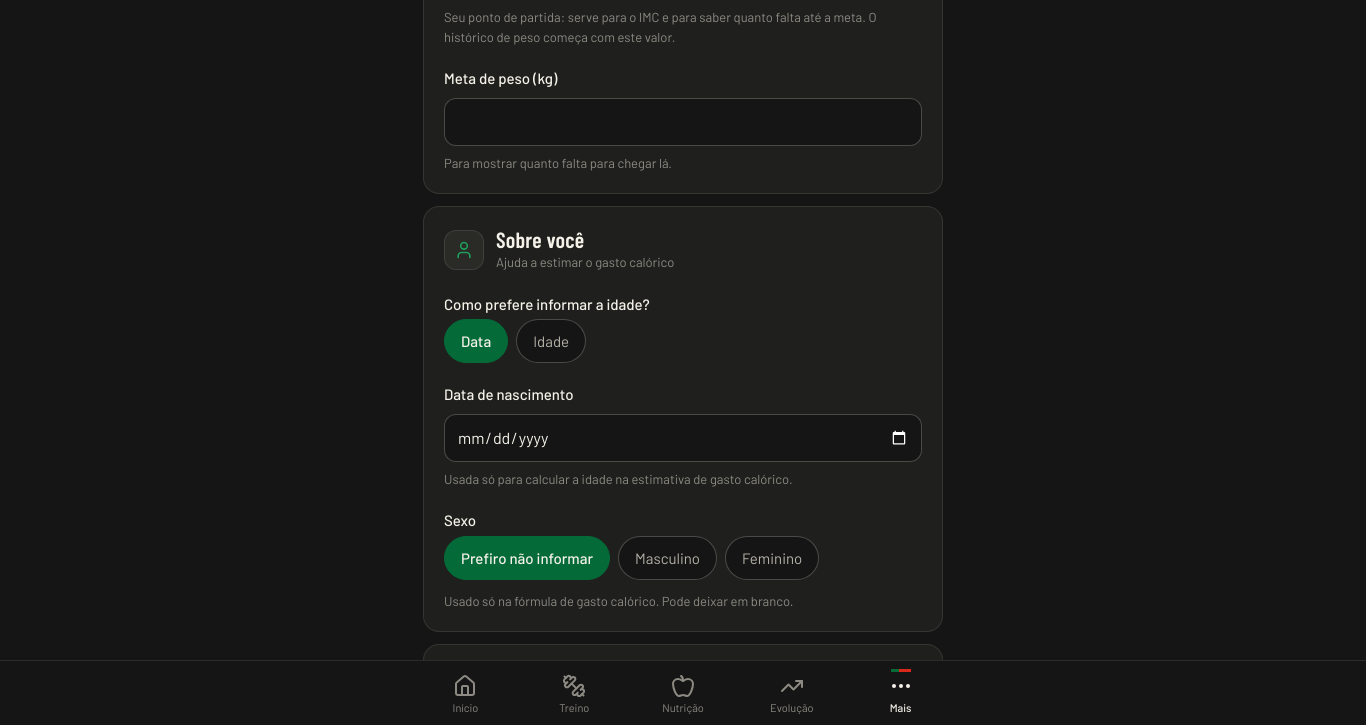
Test: Configurações › permite informar só a idade aproximada
(page scrolled)
Check: the date field labelled "Data de nascimento" is shown, box [444,414,922,462]
Click the radio button labelled "Idade" at {"x": 551, "y": 342}, box [516,320,586,364]
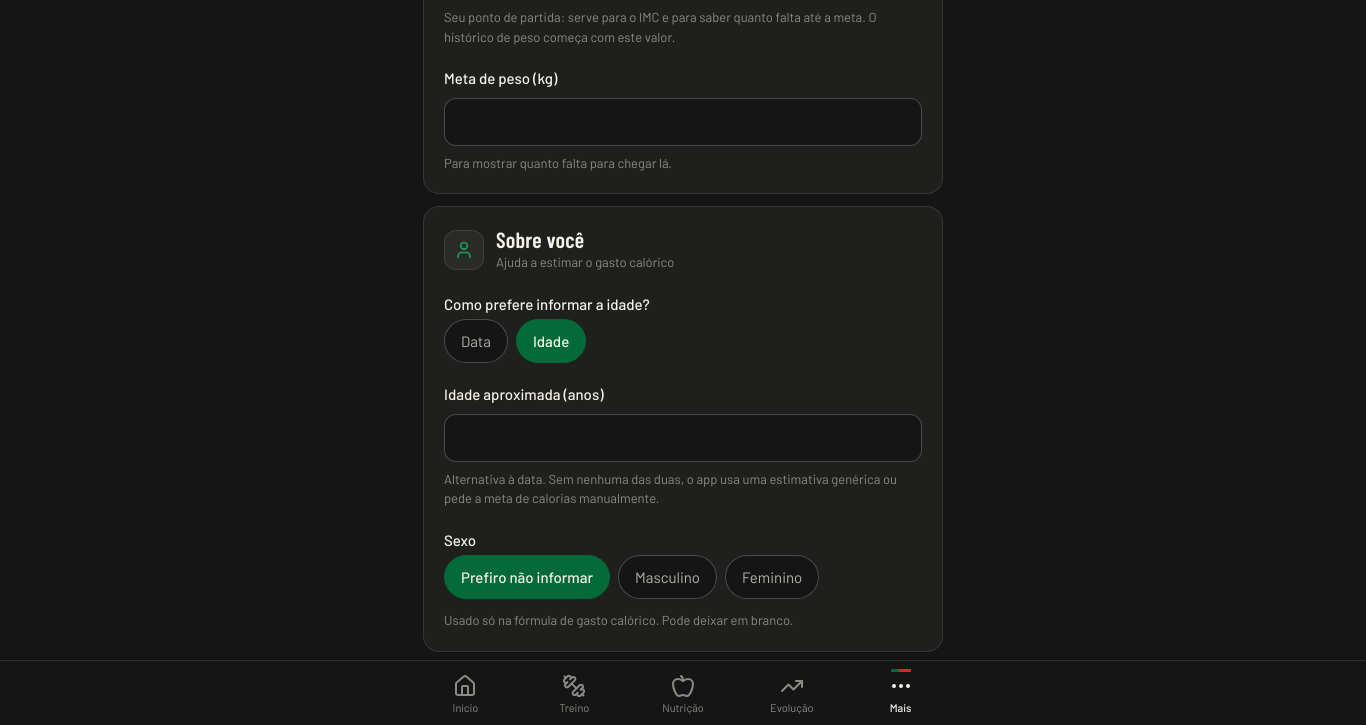
Type "30" into the field labelled "Idade aproximada (anos)" at {"x": 683, "y": 438}, box [444,414,922,462]
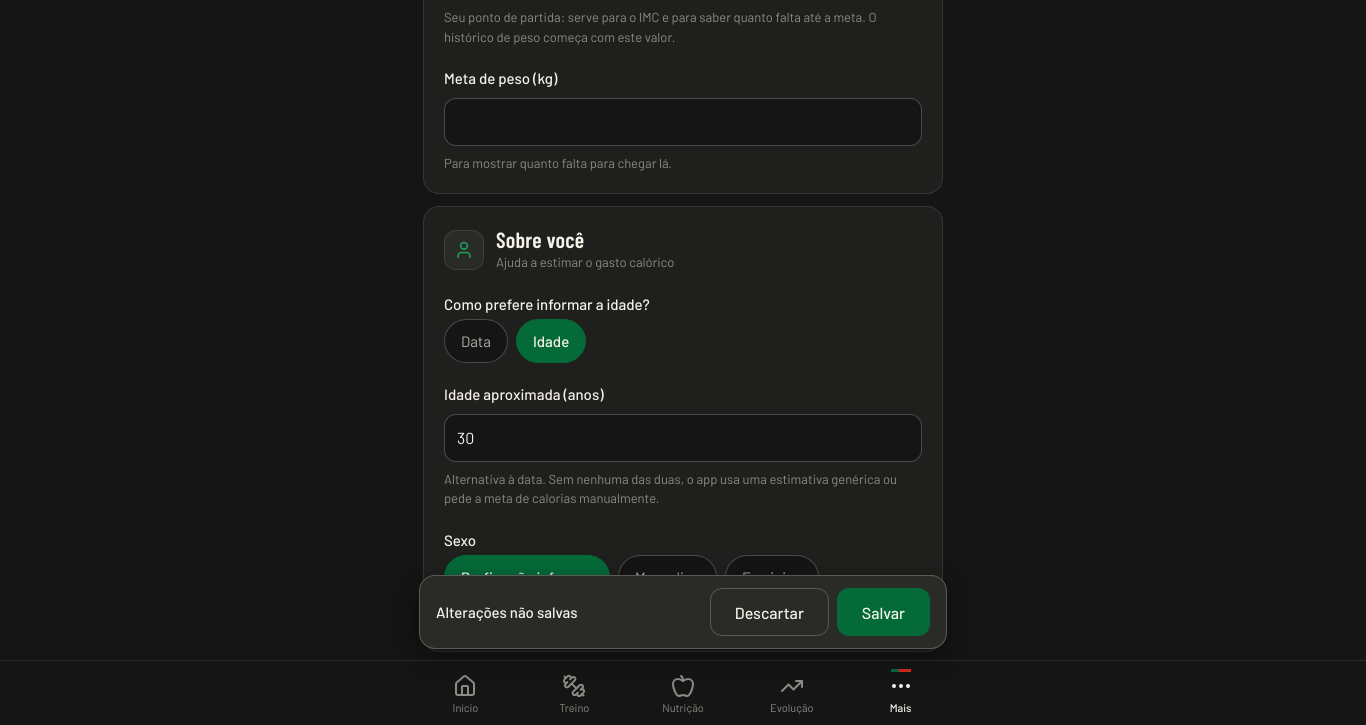
Click the button "Salvar" at {"x": 883, "y": 612}, box [837,588,930,636]
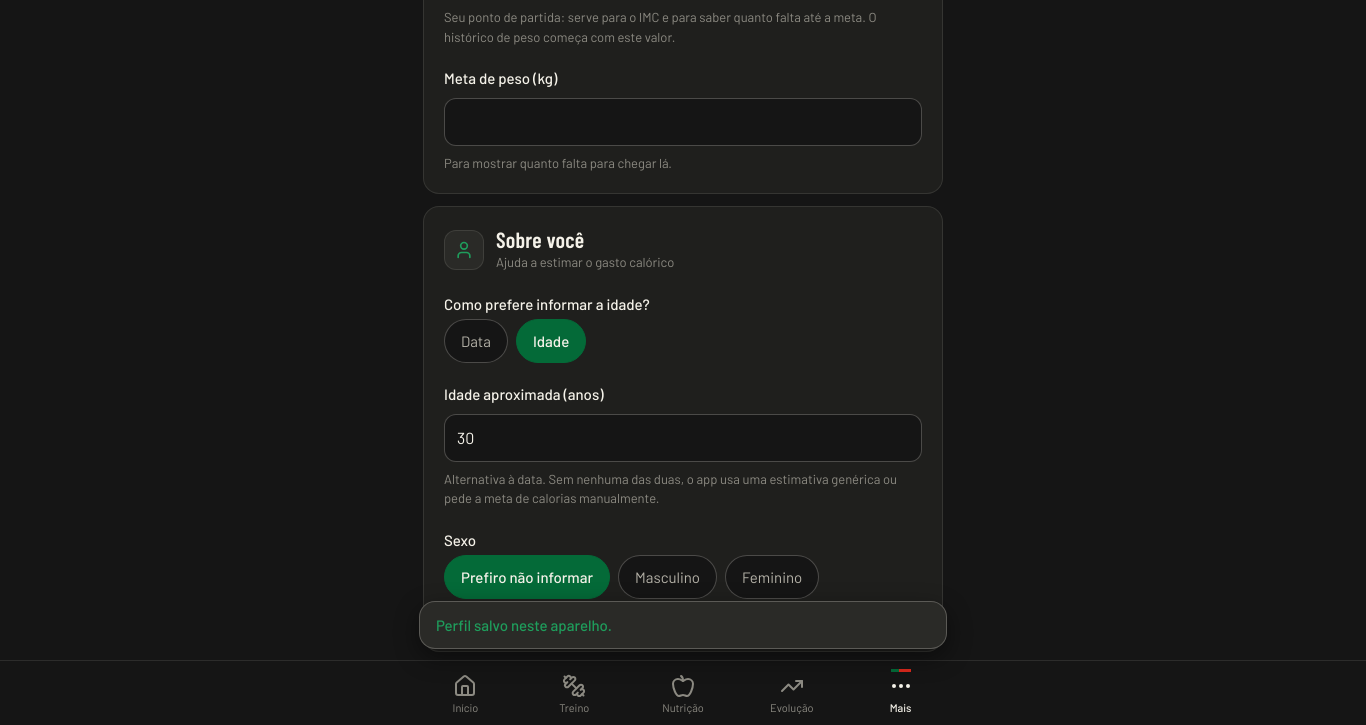
Check: the text "Perfil salvo neste aparelho." is shown, box [436,614,612,636]
